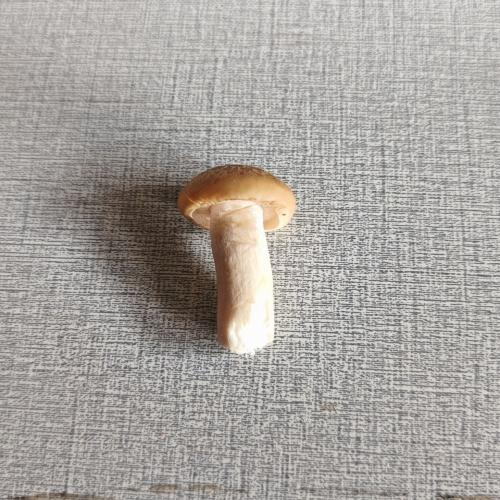Enoki Mushroom: (169, 148, 334, 361)
